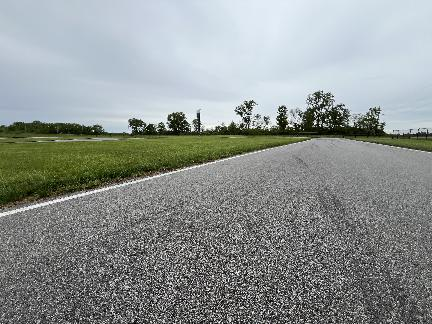Grass: (0, 137, 307, 204), (351, 139, 431, 151), (0, 136, 108, 143), (0, 137, 88, 143)
Lane: (0, 139, 431, 323), (3, 137, 162, 143)
